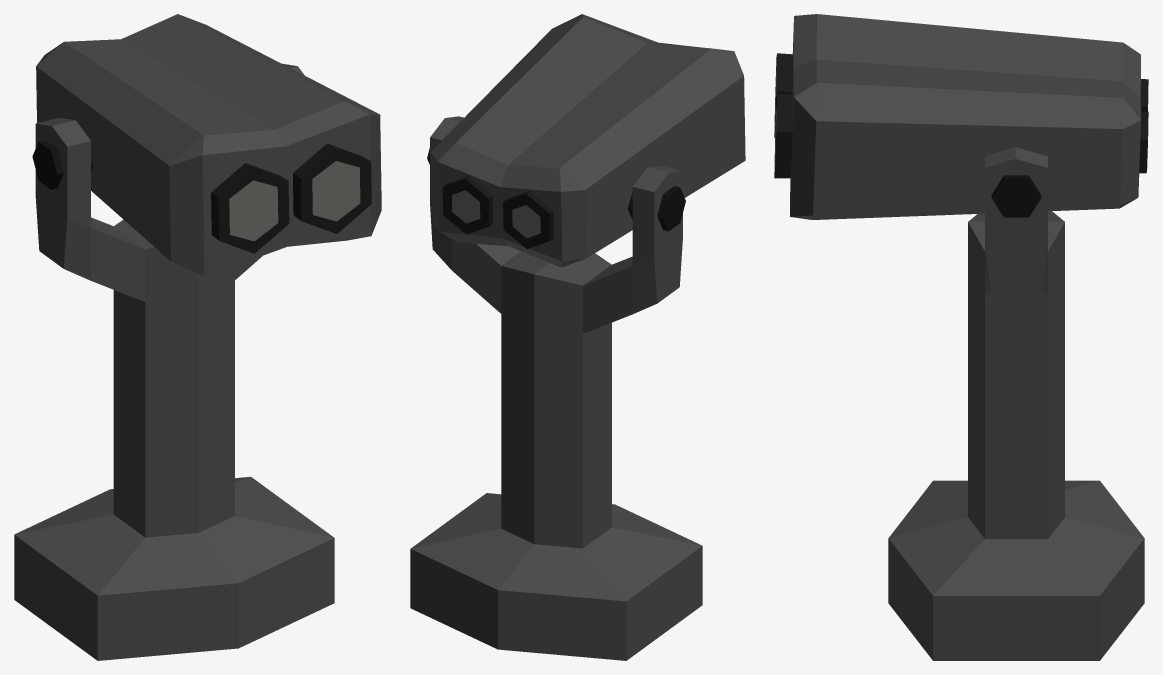
Rendered from binoculars_iron.fbx.
The picture shows the model from 3 angles, left to right: view 1: azimuth 30°, elevation 25°; view 2: azimuth 150°, elevation 25°; view 3: azimuth 270°, elevation 25°; orthographic projection. The views are drawn at different scales.
Visible parts, largest first — view 1: binoculars_stand, binoculars; view 2: binoculars_stand, binoculars; view 3: binoculars_stand, binoculars.
Part boxes in pixels (x1,y1,x2,y2): binoculars_stand: (14,63,334,660); binoculars: (36,14,381,276); binoculars_stand: (410,116,702,660); binoculars: (430,14,745,267); binoculars_stand: (888,147,1144,660); binoculars: (774,14,1148,219).
Size of the model in its own units: 41.76 by 85.65 by 52.35.
